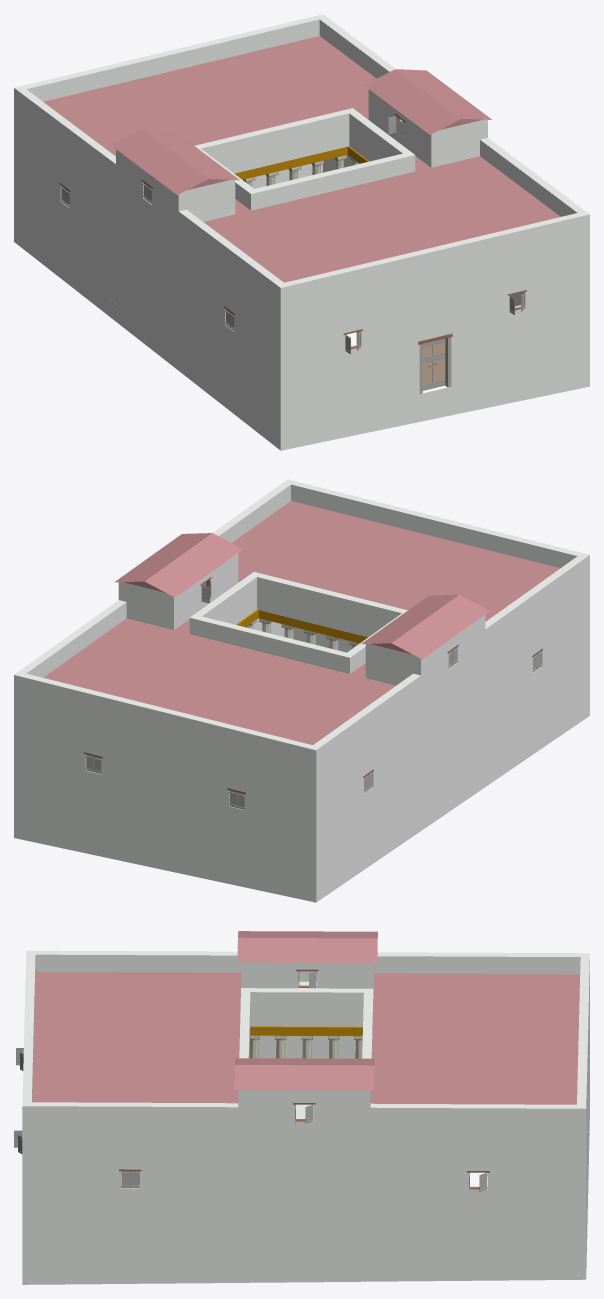
The model's file is LOD_Block_4_28.glb.
3 renders of one model, top to bottom at view 1: azimuth 30°, elevation 25°; view 2: azimuth 150°, elevation 25°; view 3: azimuth 270°, elevation 25°, orthographic. The views are drawn at different scales.
Visible parts, largest first — view 1: _1.5388; view 2: _1.5388; view 3: _1.5388.
Part boxes in pixels (x1,y1,x2,y2): _1.5388: (14,14,589,450); _1.5388: (14,479,589,902); _1.5388: (14,931,589,1284).
Size of the model in its own units: 20.32 by 12.08 by 30.51.
3 materials, 3 textured.
